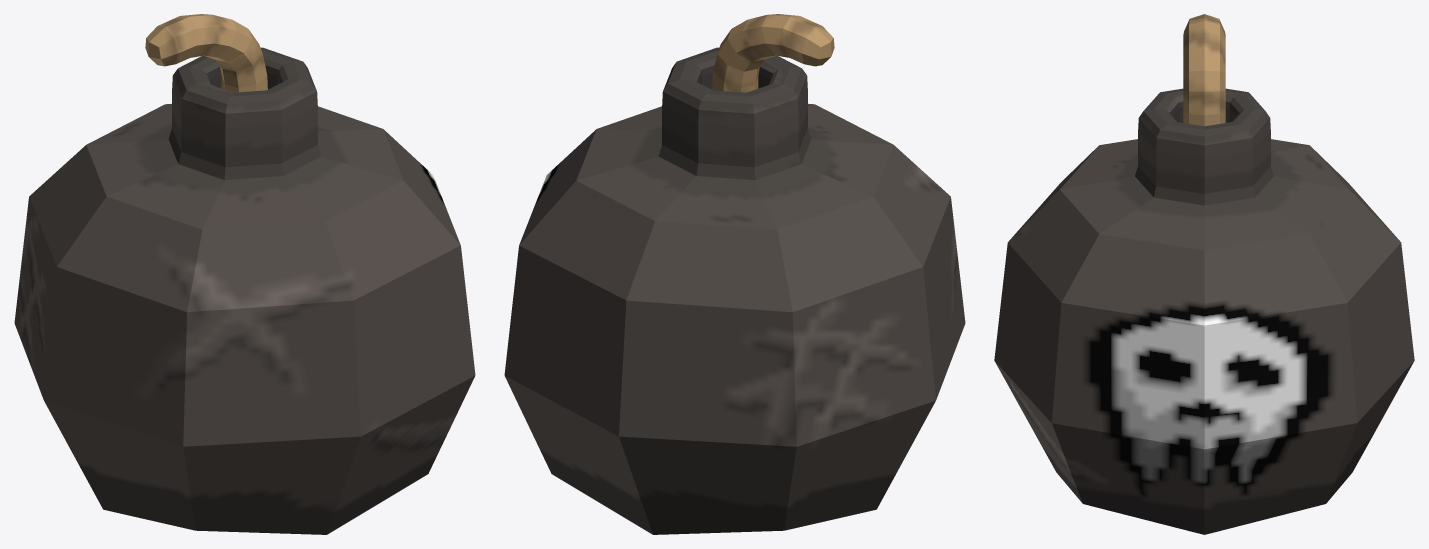
Rendered from bomba.fbx.
The picture shows the model from 3 angles, left to right: view 1: azimuth 30°, elevation 25°; view 2: azimuth 150°, elevation 25°; view 3: azimuth 270°, elevation 25°; orthographic projection. The views are drawn at different scales.
Parts seen in each view (by area): view 1: Cube; view 2: Cube; view 3: Cube.
Part boxes in pixels (x1,y1,x2,y2): Cube: (14, 14, 475, 534); Cube: (504, 14, 965, 534); Cube: (994, 14, 1414, 534).
Size of the model in its own units: 14.07 by 17.3 by 14.07.
1 material, 1 textured.
